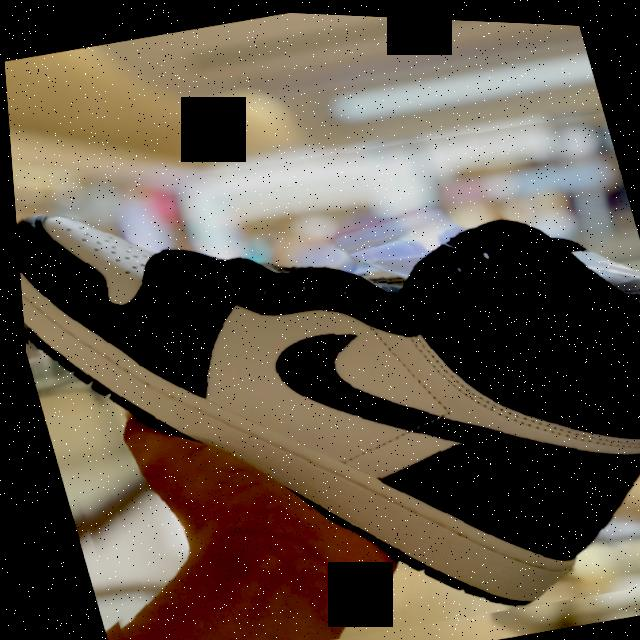shoe: (4, 77, 640, 640)
